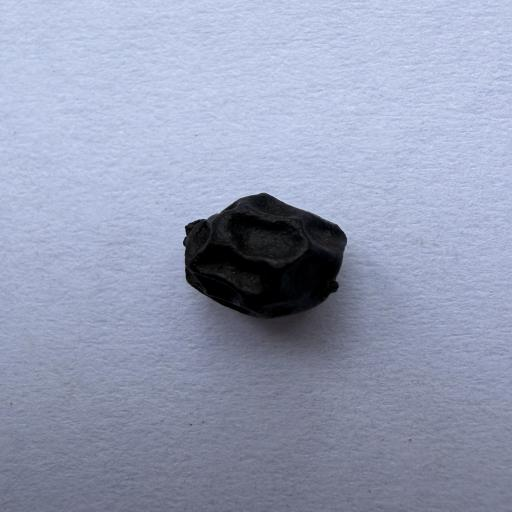Black_pepper: (173, 173, 356, 342)
